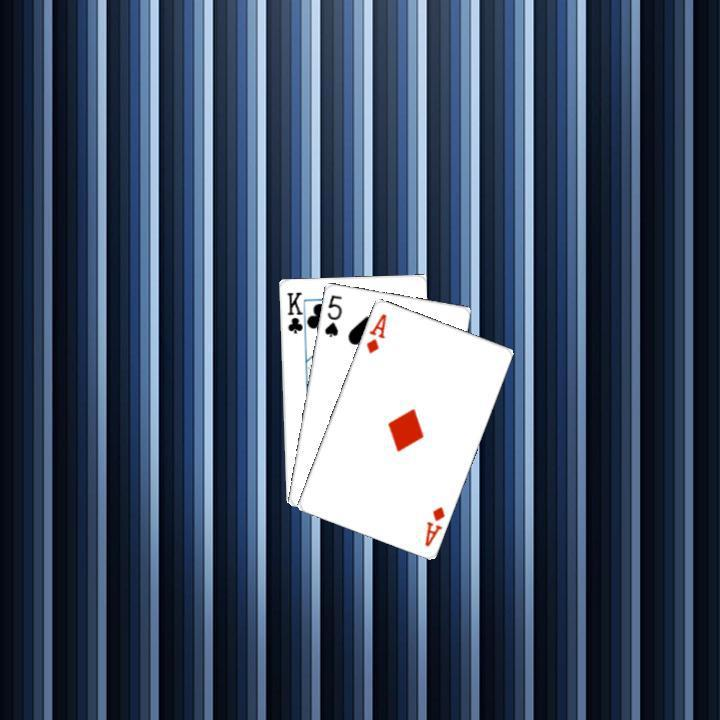5: (320, 290, 344, 339)
A: (361, 309, 388, 355), (420, 502, 447, 548)
K: (283, 288, 308, 339)
